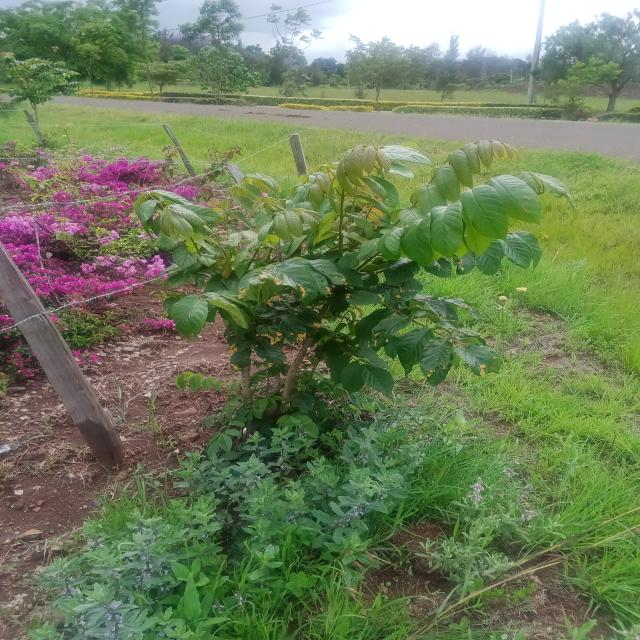Polyscias Kikuyensis: (125, 134, 578, 425)
